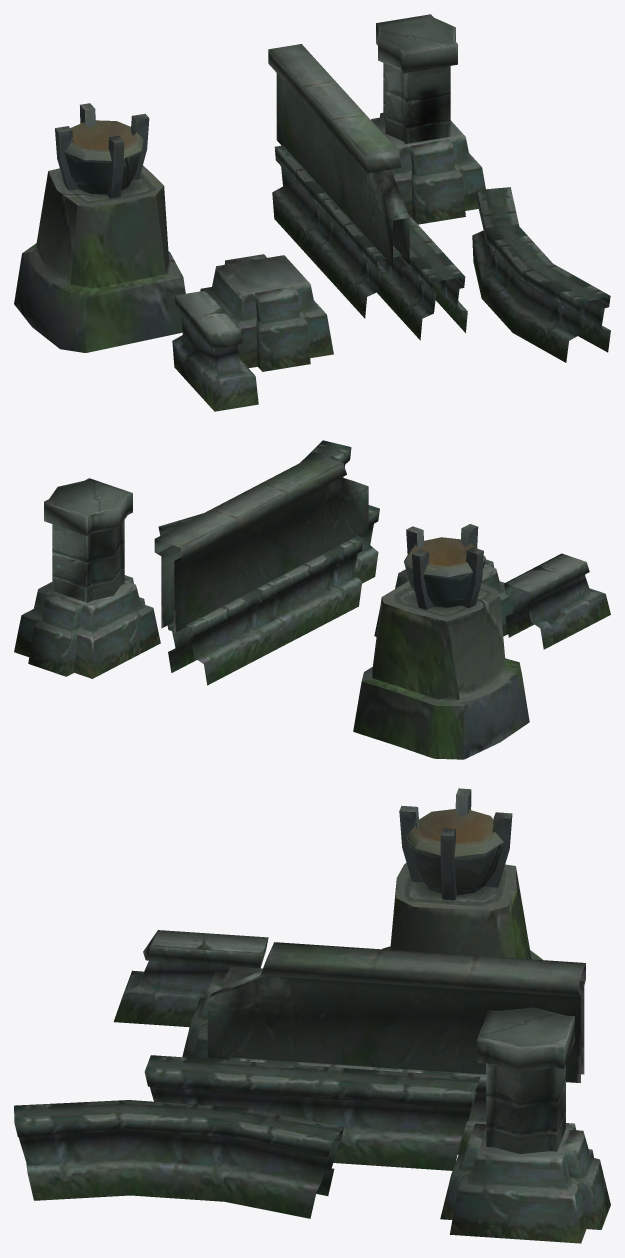
The model's file is FB1_weilan01_002.FBX.
3 views of the same model, one above another, from view 1: azimuth 30°, elevation 25°; view 2: azimuth 150°, elevation 25°; view 3: azimuth 270°, elevation 25° (orthographic). The views are drawn at different scales.
Parts seen in each view (by area): view 1: FB1_shihuopen01_001, FB1_weilan01_003, FB1_weilan01_006, FB1_weilan01_005, FB1_weilan01_002, FB1_weilan01_001, FB1_weilan01_004; view 2: FB1_weilan01_003, FB1_shihuopen01_001, FB1_weilan01_006, FB1_weilan01_001, FB1_weilan01_004, FB1_weilan01_002, FB1_weilan01_005; view 3: FB1_weilan01_003, FB1_weilan01_005, FB1_weilan01_006, FB1_weilan01_004, FB1_shihuopen01_001, FB1_weilan01_001, FB1_weilan01_002.
Part boxes in pixels (x1,y1,x2,y2): FB1_shihuopen01_001: (14,103,185,352); FB1_weilan01_003: (268,44,409,318); FB1_weilan01_006: (371,14,485,224); FB1_weilan01_005: (472,187,610,362); FB1_weilan01_002: (200,254,333,371); FB1_weilan01_001: (172,290,258,411); FB1_weilan01_004: (377,214,467,340); FB1_weilan01_003: (154,454,368,685); FB1_shihuopen01_001: (353,524,529,759); FB1_weilan01_006: (14,478,160,678); FB1_weilan01_001: (504,553,610,649); FB1_weilan01_004: (354,505,379,583); FB1_weilan01_002: (374,559,512,636); FB1_weilan01_005: (158,440,351,535); FB1_weilan01_003: (207,942,585,1154); FB1_weilan01_005: (14,1100,343,1218); FB1_weilan01_006: (440,1007,610,1243); FB1_weilan01_004: (144,1055,480,1170); FB1_shihuopen01_001: (382,788,542,959); FB1_weilan01_001: (113,930,268,1027); FB1_weilan01_002: (182,966,262,1060).
Bounding box in the file's own units: 17.67 × 7 × 16.89.
Materials: 1 (1 with a texture image).
